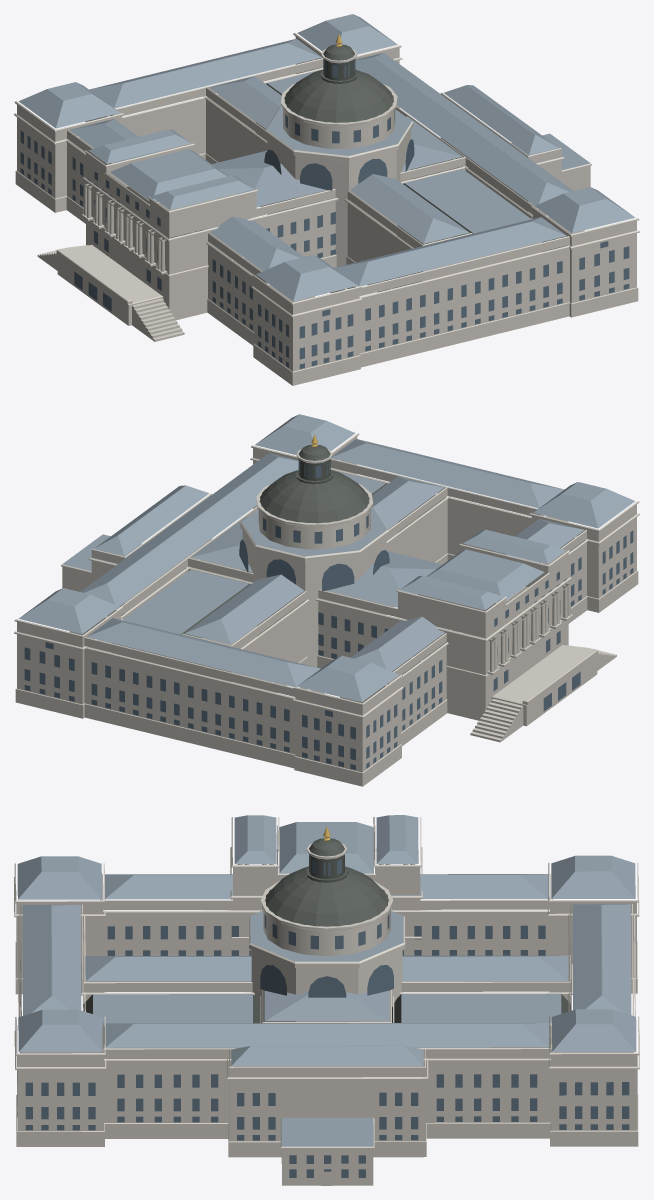
Rendered from detail.glb.
The picture shows the model from 3 angles, top to bottom: view 1: azimuth 30°, elevation 25°; view 2: azimuth 150°, elevation 25°; view 3: azimuth 270°, elevation 25°; orthographic projection. The views are drawn at different scales.
Visible parts, largest first — view 1: library-of-congress-thomas-jefferson-building; view 2: library-of-congress-thomas-jefferson-building; view 3: library-of-congress-thomas-jefferson-building.
Part boxes in pixels (x1,y1,x2,y2): library-of-congress-thomas-jefferson-building: [14, 14, 639, 385]; library-of-congress-thomas-jefferson-building: [14, 414, 639, 786]; library-of-congress-thomas-jefferson-building: [14, 815, 639, 1185].
Size of the model in its own units: 145 by 59.4 by 145.
